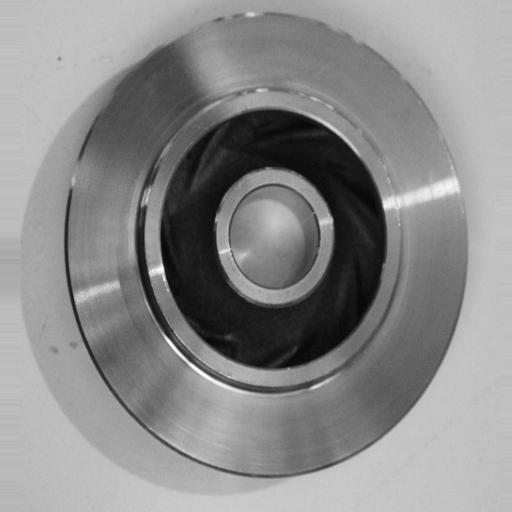scratch: (177, 1, 332, 40), (136, 128, 181, 222), (378, 149, 415, 247), (187, 81, 290, 115), (300, 86, 365, 134)
unpolished_casting: (64, 9, 475, 481)
